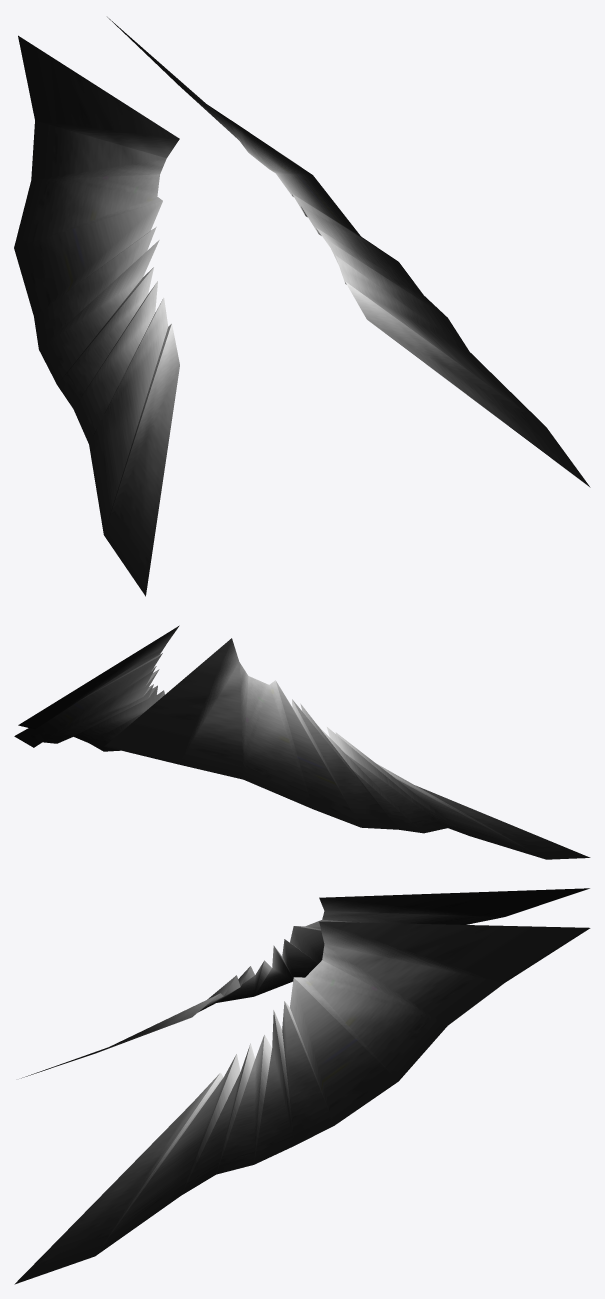
File: zhufudatianshizhijueduizhiren003.fbx
The picture shows the model from 3 angles, top to bottom: view 1: azimuth 30°, elevation 25°; view 2: azimuth 150°, elevation 25°; view 3: azimuth 270°, elevation 25°; orthographic projection. The views are drawn at different scales.
Parts seen in each view (by area): view 1: zhufudatianshizhijueduizhiren003; view 2: zhufudatianshizhijueduizhiren003; view 3: zhufudatianshizhijueduizhiren003.
Boxes of the visible parts, x1,y1,x2,y2 form: zhufudatianshizhijueduizhiren003: [14, 17, 590, 596]; zhufudatianshizhijueduizhiren003: [14, 625, 590, 859]; zhufudatianshizhijueduizhiren003: [14, 888, 590, 1284].
Size of the model in its own units: 194 by 122 by 232.
